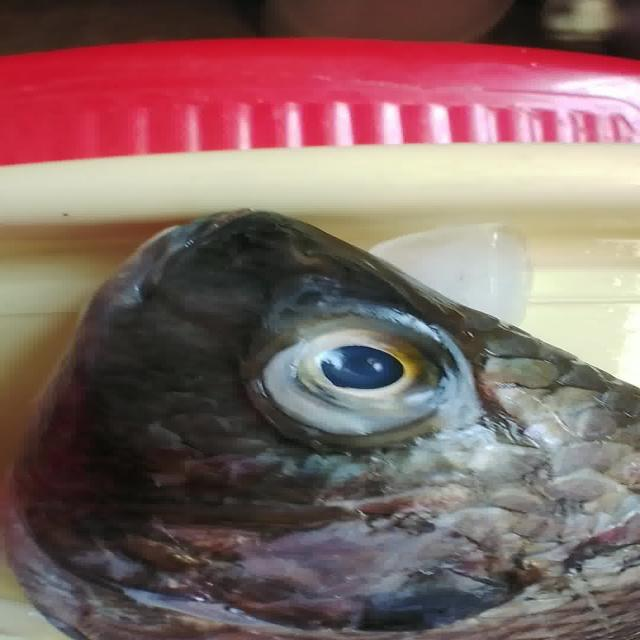Fresh: (222, 304, 489, 438)
